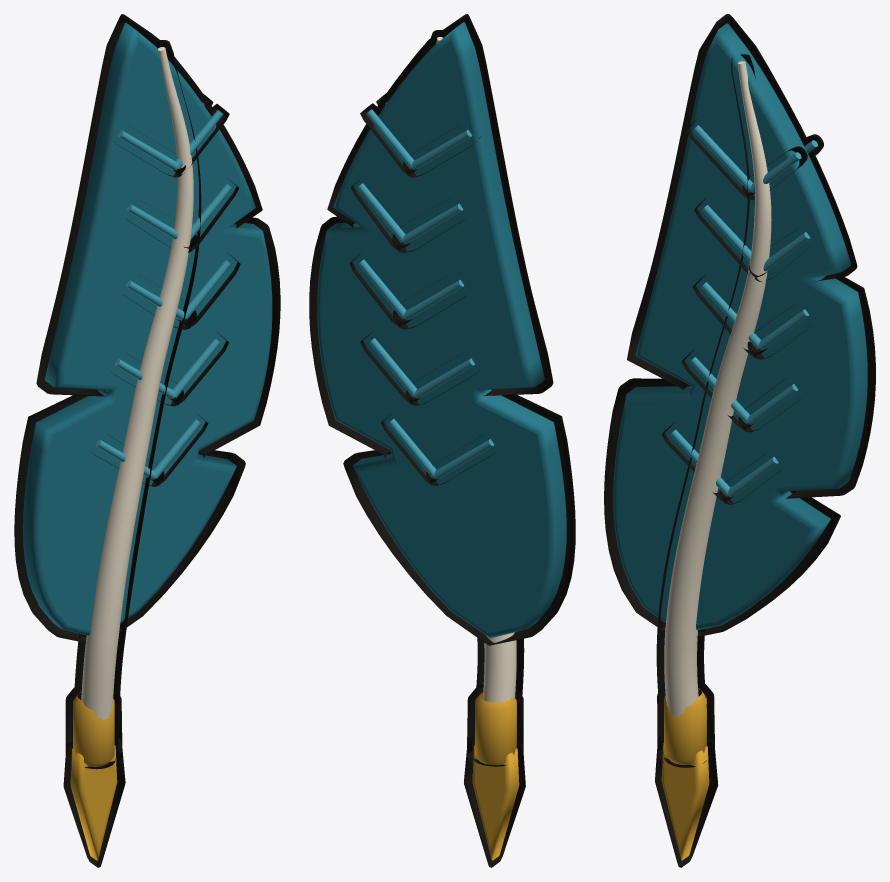
The model's file is quill.glb.
3 renders of one model, left to right at view 1: azimuth 30°, elevation 25°; view 2: azimuth 150°, elevation 25°; view 3: azimuth 330°, elevation 25°, orthographic. The views are drawn at different scales.
Visible parts, largest first — view 1: Quill, Quill_outline; view 2: Quill, Quill_outline; view 3: Quill, Quill_outline.
Boxes of the visible parts, bbox=[...] form: Quill: bbox=[23, 22, 272, 860]; Quill_outline: bbox=[14, 14, 280, 867]; Quill: bbox=[317, 22, 566, 860]; Quill_outline: bbox=[309, 14, 575, 867]; Quill: bbox=[613, 23, 867, 860]; Quill_outline: bbox=[604, 14, 875, 867].
Size of the model in its own units: 0.9123 by 2.87 by 0.2134.
